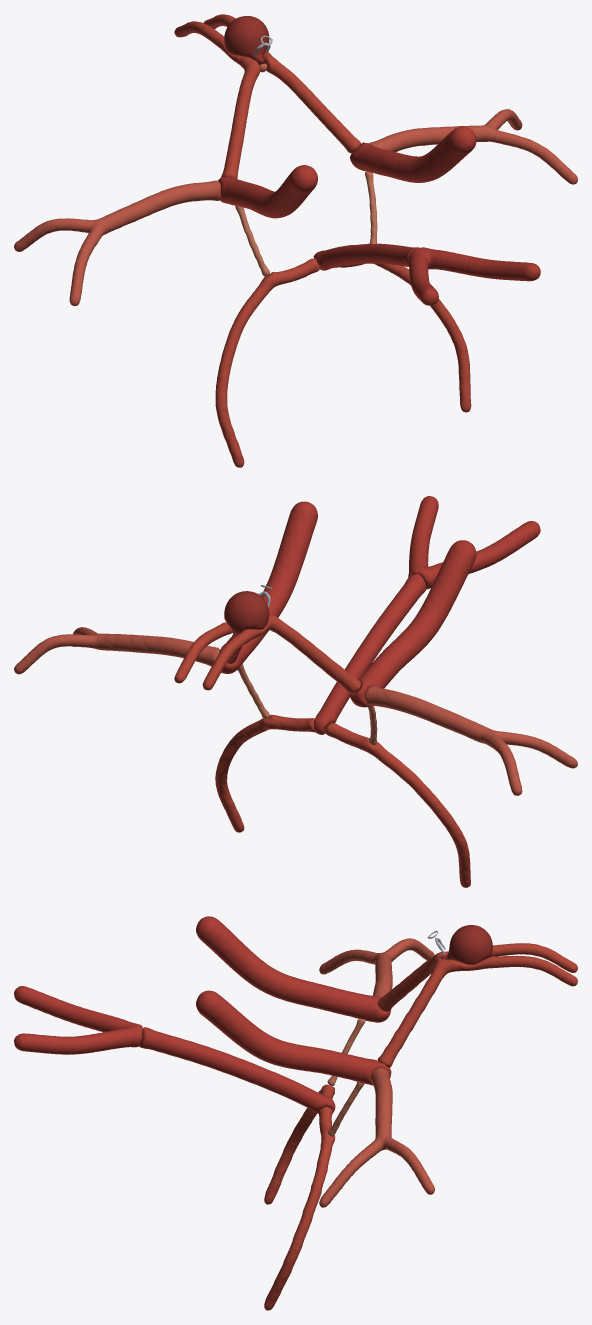
The model's file is willis_acom_clipped.glb.
3 views of the same model, one above another, from view 1: azimuth 30°, elevation 25°; view 2: azimuth 150°, elevation 25°; view 3: azimuth 270°, elevation 25° (orthographic). The views are drawn at different scales.
Parts seen in each view (by area): view 1: middle_cerebrals, internal_carotids, posterior_cerebrals, anterior_cerebrals, vertebral_arteries, basilar_artery, aneurysm, posterior_communicatings; view 2: internal_carotids, middle_cerebrals, posterior_cerebrals, anterior_cerebrals, basilar_artery, vertebral_arteries, aneurysm, posterior_communicatings; view 3: internal_carotids, anterior_cerebrals, middle_cerebrals, vertebral_arteries, basilar_artery, posterior_cerebrals, aneurysm, posterior_communicatings.
Boxes of the visible parts, x1,y1,x2,y2 form: middle_cerebrals: (14,109,577,306); internal_carotids: (218,126,476,218); posterior_cerebrals: (215,258,471,467); anterior_cerebrals: (174,14,360,178); vertebral_arteries: (408,247,540,305); basilar_artery: (313,243,419,270); aneurysm: (224,16,269,64); posterior_communicatings: (235,171,377,276); internal_carotids: (219,501,476,707); middle_cerebrals: (14,627,577,795); posterior_cerebrals: (215,714,470,887); anterior_cerebrals: (174,614,360,693); basilar_artery: (313,573,426,734); vertebral_arteries: (408,496,540,589); aneurysm: (224,591,269,634); posterior_communicatings: (237,664,377,745); internal_carotids: (196,916,391,1085); anterior_cerebrals: (377,943,577,1067); middle_cerebrals: (319,938,434,1207); vertebral_arteries: (14,986,142,1054); basilar_artery: (139,1027,335,1113); posterior_cerebrals: (264,1084,335,1310); aneurysm: (441,925,492,964); posterior_communicatings: (327,1018,365,1136).
Size of the model in its own units: 17.9 by 11.61 by 17.99.
